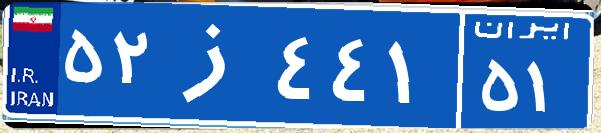1: (385, 28, 445, 110), (525, 38, 570, 115)
2: (110, 28, 158, 105)
4: (273, 28, 330, 110), (330, 28, 385, 110)
5: (57, 26, 110, 107), (475, 38, 525, 113)
ز: (158, 15, 273, 115)
